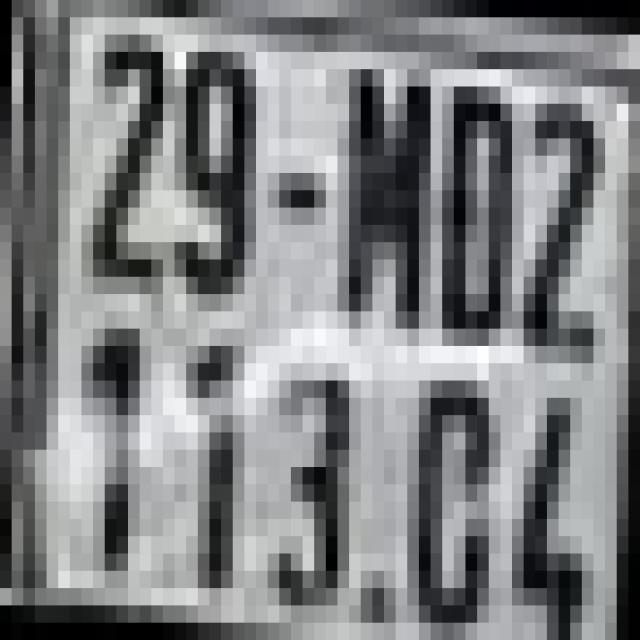0: (419, 380, 489, 622)
1: (82, 328, 140, 570), (187, 346, 244, 588)
2: (524, 104, 605, 346), (93, 35, 163, 276)
3: (268, 364, 349, 606)
4: (512, 398, 593, 640)
9: (175, 52, 256, 294)
D: (442, 86, 512, 346)
M: (338, 52, 430, 346)
